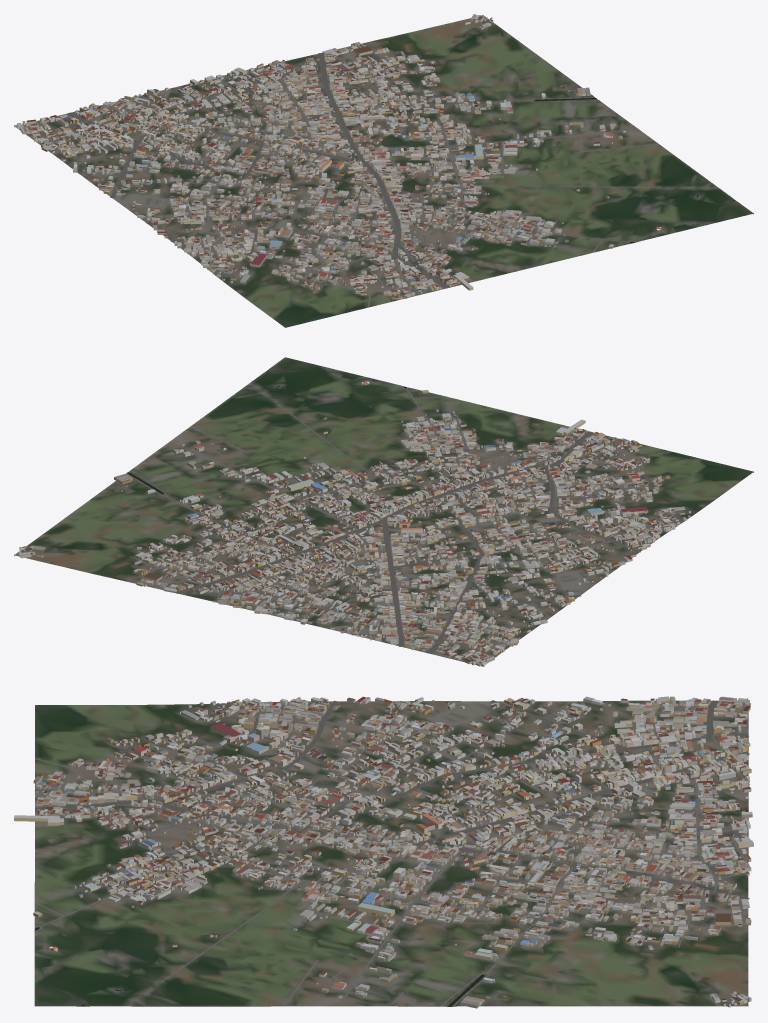
3 renders of one model, top to bottom at view 1: azimuth 30°, elevation 25°; view 2: azimuth 150°, elevation 25°; view 3: azimuth 270°, elevation 25°, orthographic. The views are drawn at different scales.
Parts seen in each view (by area): view 1: ground, buildings, roads; view 2: ground, buildings, roads; view 3: ground, buildings, roads.
Boxes of the visible parts, x1,y1,x2,y2 form: ground: (15, 16, 753, 327); buildings: (14, 14, 661, 299); roads: (23, 15, 667, 307); ground: (14, 357, 753, 666); buildings: (19, 381, 690, 666); roads: (14, 385, 684, 665); ground: (34, 700, 748, 1006); buildings: (14, 696, 753, 1008); roads: (34, 700, 749, 1006).
Bounding box in the file's own units: 1419 × 29.28 × 1452.
